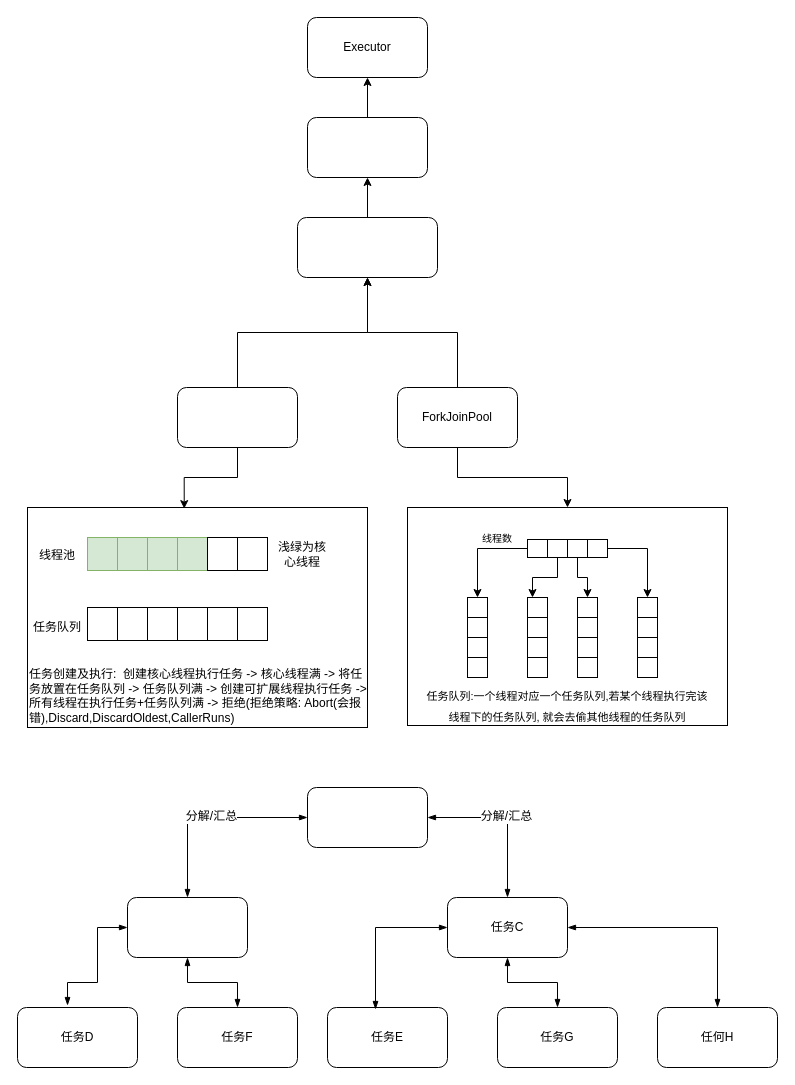
The diagram is 795 pixels wide and 1085 high, and some of its shapes have lost their labels. The shapes that lost their labels are listed below. From the top down, each one's centre as x and y in pixels, then its label:
At pixel 367 147: "ExecutorService".
At pixel 367 247: "AbstractExecutorService".
At pixel 237 417: "ThreadPoolExecutor".
At pixel 367 817: "任务A".
At pixel 187 927: "任务B".
